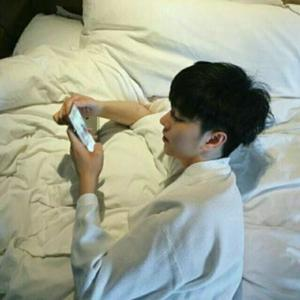no_mask: (156, 61, 270, 163)
